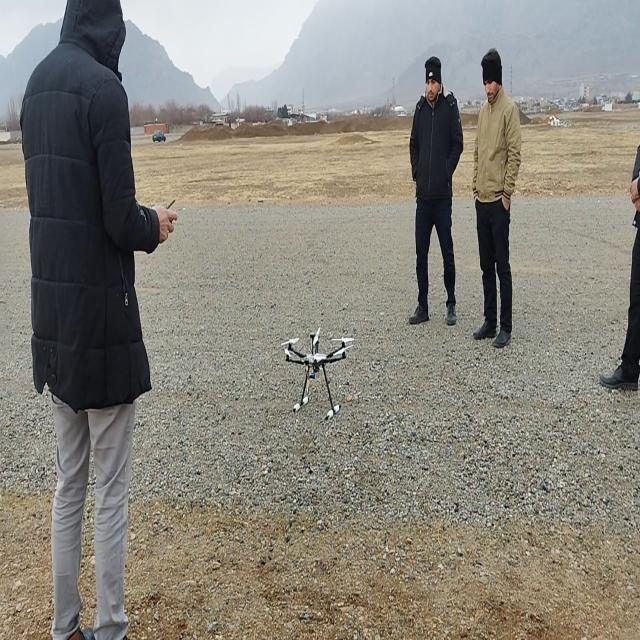drone: (280, 324, 356, 420)
